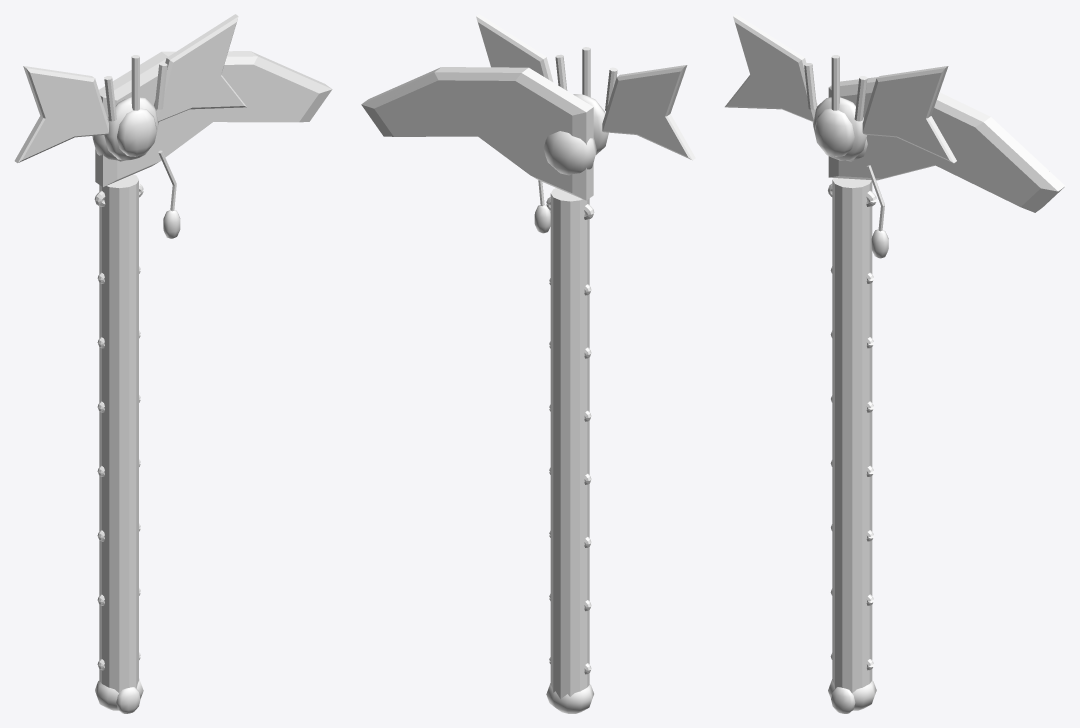
File: hoe.obj
3 views of the same model, side by side, from view 1: azimuth 30°, elevation 25°; view 2: azimuth 150°, elevation 25°; view 3: azimuth 330°, elevation 25° (orthographic).
Size of the model in its own units: 0.4708 by 0.9375 by 0.0854.
